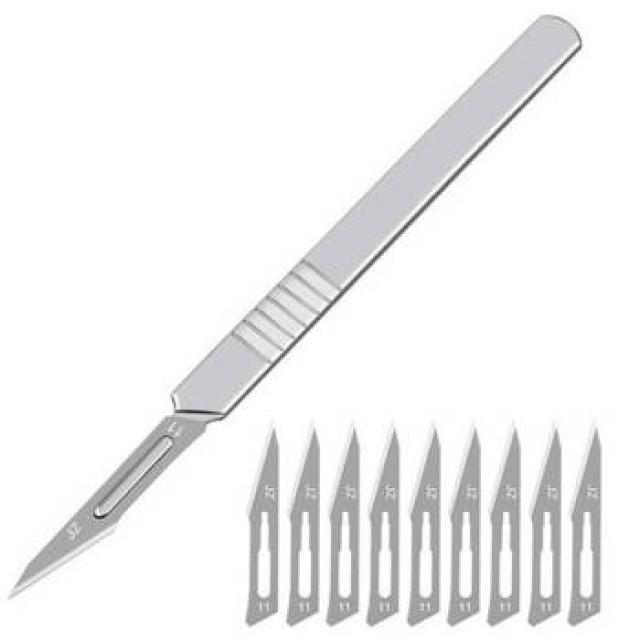Knife handle: (596, 18, 602, 20)
Surgical blade: (0, 394, 214, 606), (563, 416, 612, 628), (326, 418, 372, 639), (284, 422, 328, 634), (526, 424, 570, 632), (447, 424, 492, 626), (410, 424, 452, 640), (368, 424, 412, 628), (490, 424, 530, 626), (244, 424, 284, 623)
